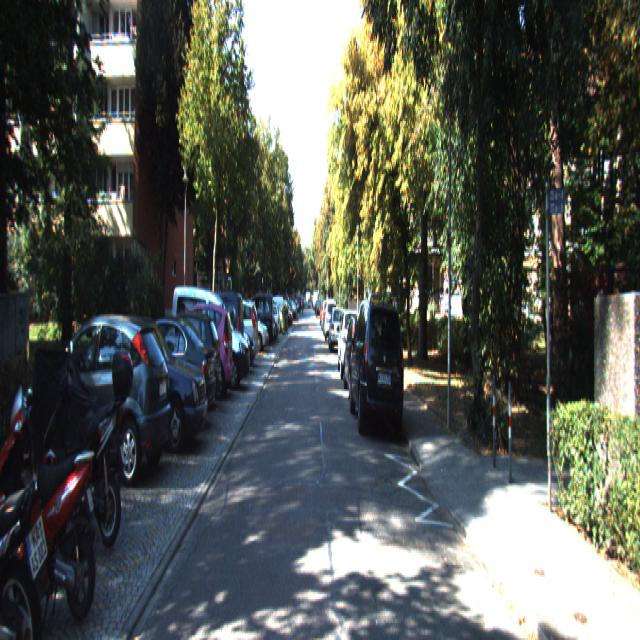Car: (0, 376, 106, 629), (28, 311, 173, 489), (67, 311, 209, 460), (44, 361, 138, 559), (0, 388, 56, 638), (115, 316, 218, 438), (348, 294, 407, 442), (171, 288, 251, 397), (166, 303, 234, 405), (186, 289, 244, 383), (201, 298, 258, 371), (342, 310, 380, 398), (337, 308, 365, 381), (328, 306, 346, 354)
